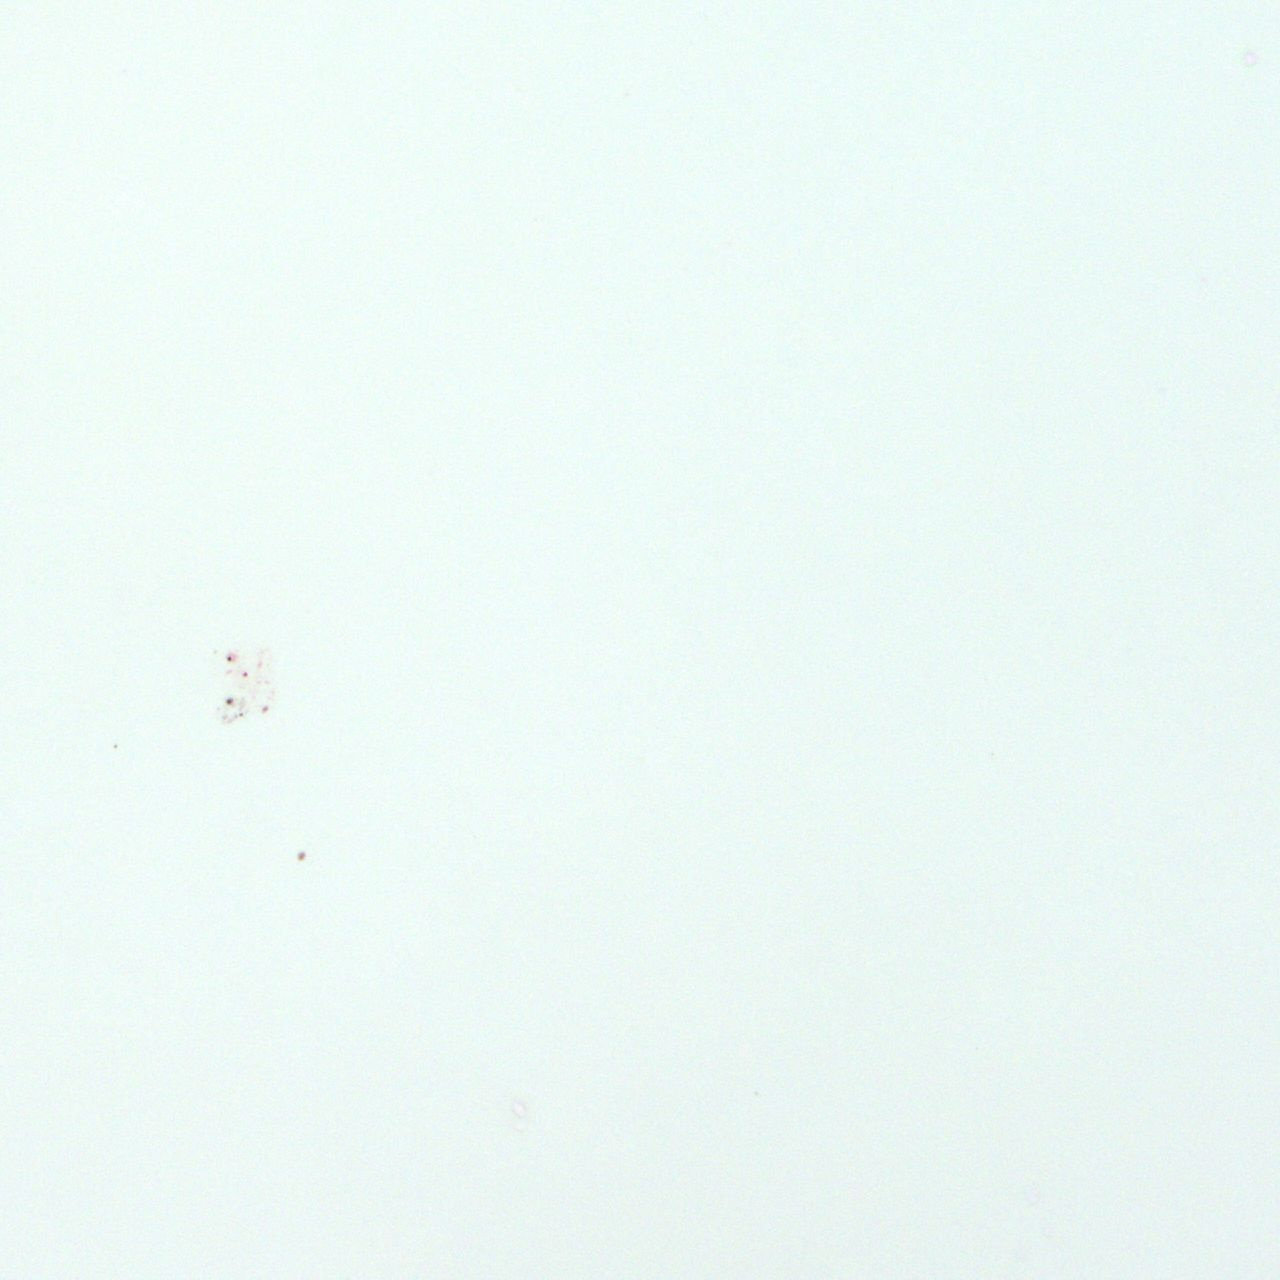dust: (295, 850, 307, 862), (224, 697, 233, 708), (261, 704, 270, 714), (113, 742, 117, 751), (241, 670, 247, 676), (226, 656, 231, 661), (238, 712, 241, 716)
